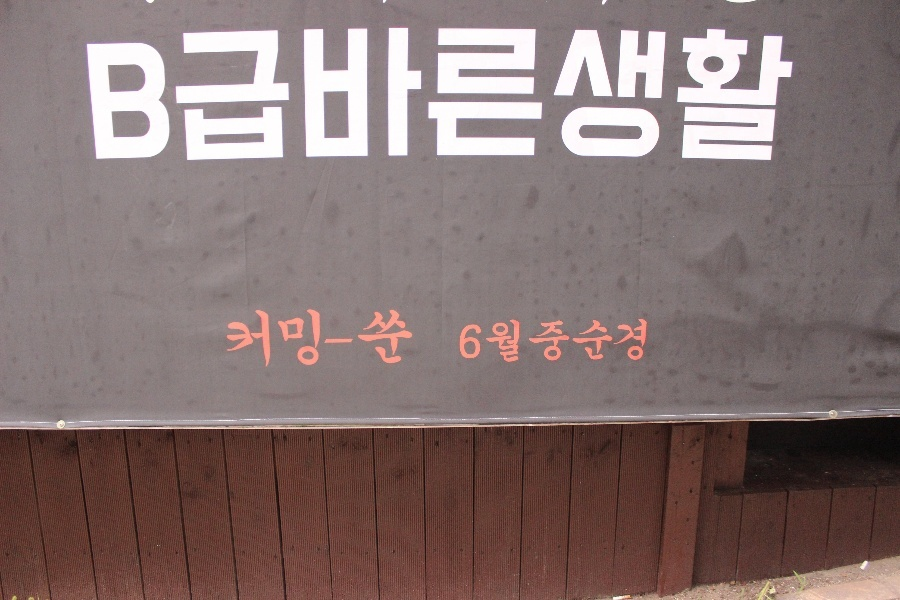text: (177, 27, 192, 167), (193, 27, 208, 167), (209, 27, 224, 167), (225, 27, 240, 167), (241, 27, 256, 167), (257, 27, 272, 167), (273, 27, 288, 167), (289, 27, 304, 167), (305, 27, 320, 167), (321, 27, 336, 167), (337, 27, 352, 167), (353, 27, 368, 167), (369, 27, 384, 167), (385, 27, 400, 167), (401, 27, 416, 167), (417, 27, 432, 167), (433, 27, 448, 167), (449, 27, 464, 167), (465, 27, 480, 167), (481, 27, 496, 167), (497, 27, 512, 167), (513, 27, 528, 167), (529, 27, 544, 167), (545, 27, 560, 167), (561, 27, 576, 167), (577, 27, 592, 167), (593, 27, 608, 167), (609, 27, 624, 167), (625, 27, 640, 167), (641, 27, 656, 167), (657, 27, 672, 167), (673, 27, 688, 167), (689, 27, 704, 167), (705, 27, 720, 167), (721, 27, 736, 167), (737, 27, 752, 167), (753, 27, 768, 167), (769, 27, 784, 167), (785, 27, 800, 167), (97, 38, 112, 164), (113, 38, 128, 164), (129, 38, 144, 164), (145, 38, 160, 164), (83, 38, 96, 164), (161, 38, 174, 164), (241, 308, 256, 371), (257, 308, 272, 371), (273, 308, 288, 371), (289, 308, 304, 371), (305, 308, 320, 371), (321, 308, 336, 371), (337, 308, 352, 371), (353, 308, 368, 371), (369, 308, 384, 371), (385, 308, 400, 371), (401, 308, 416, 371), (226, 308, 240, 371), (465, 316, 480, 364), (481, 316, 496, 364), (497, 316, 512, 364), (513, 316, 528, 364), (529, 316, 544, 364), (545, 316, 560, 364), (561, 316, 576, 364), (577, 316, 592, 364), (593, 316, 608, 364), (609, 316, 624, 364), (625, 316, 640, 364), (641, 316, 650, 364), (458, 316, 464, 364), (175, 27, 176, 167)
